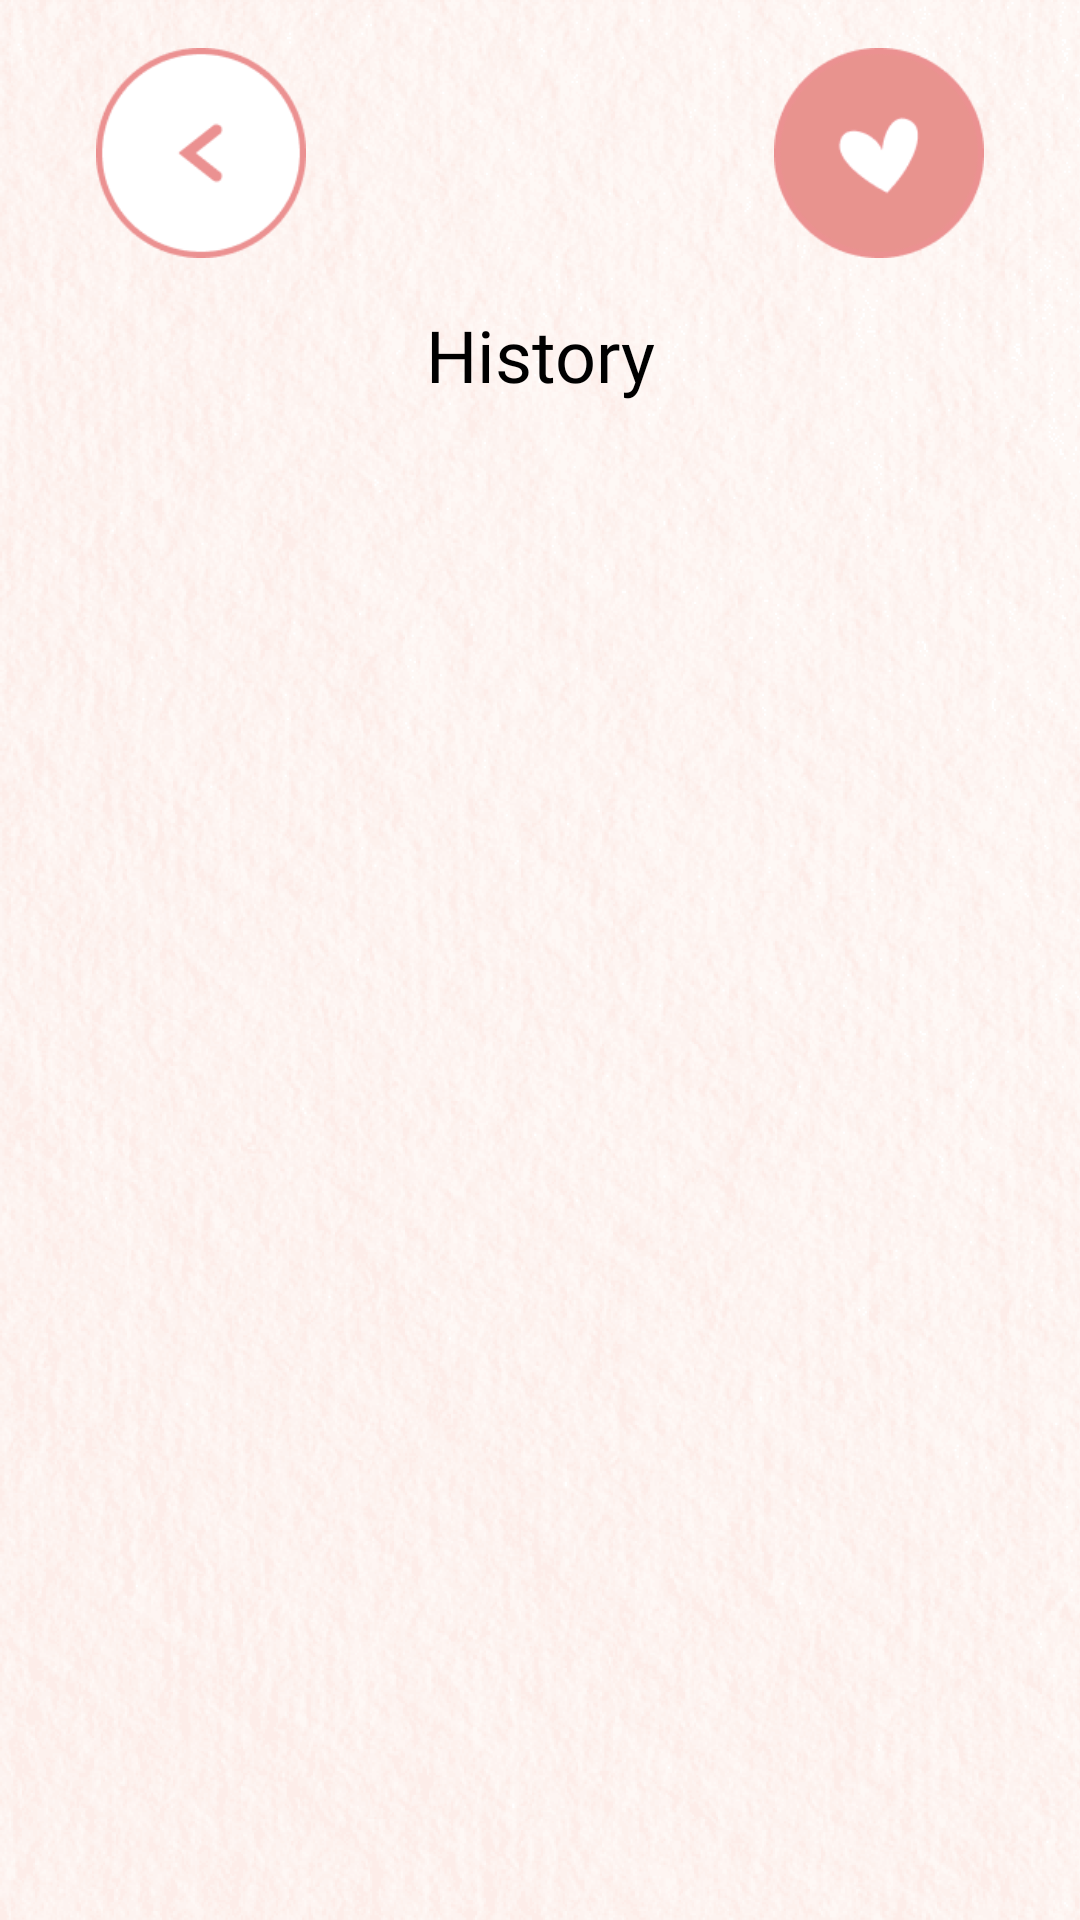

Icons on this 1080px×1920px Android screen, each with the point to tap as [x,y]:
back: [201,153]
fav: [879,153]
